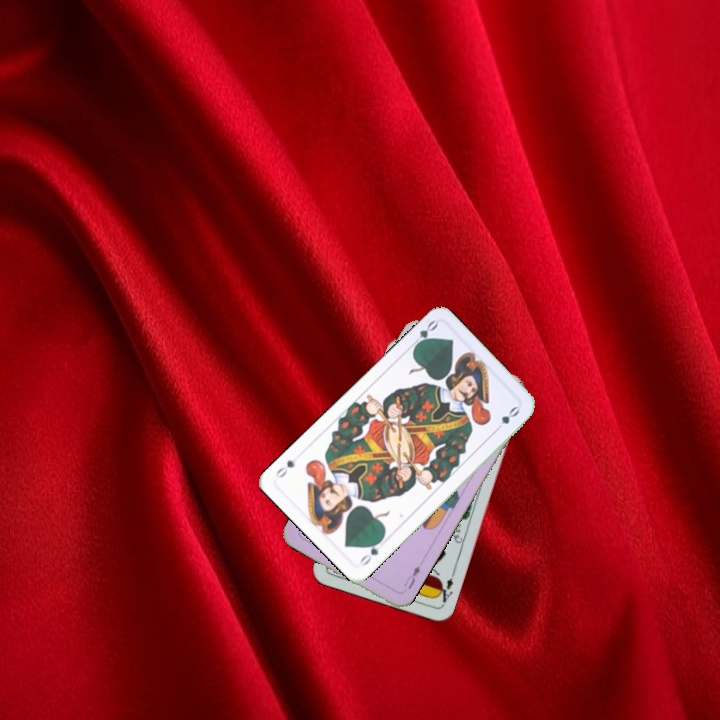EA: (433, 574, 456, 608)
EU: (399, 561, 423, 592)
GO: (406, 316, 440, 352), (355, 534, 386, 568)
